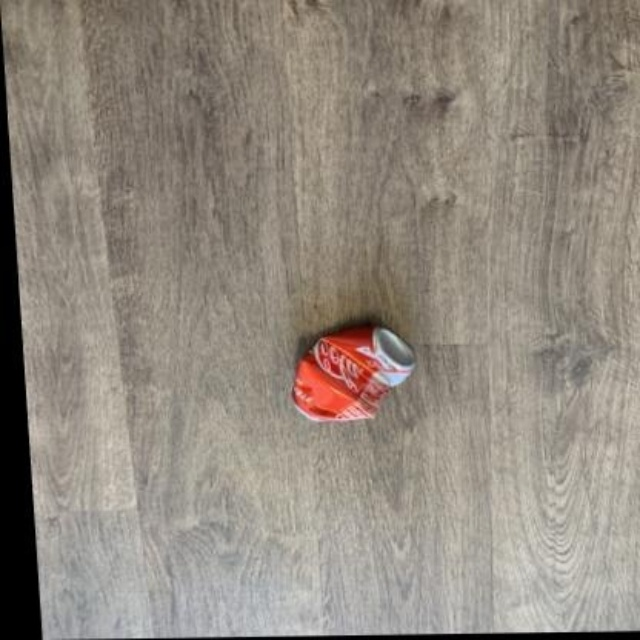trash: (292, 325, 414, 420)
